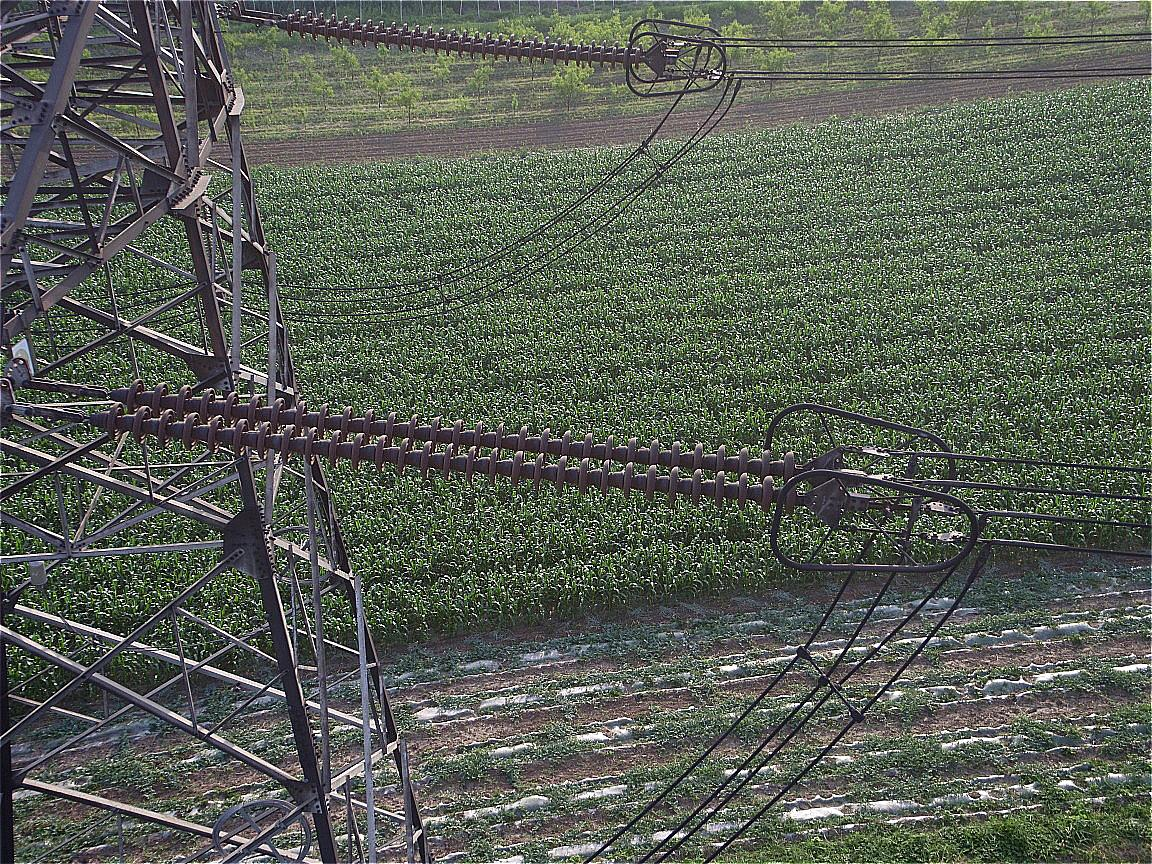insultor1: (106, 366, 806, 521), (265, 1, 664, 78)
